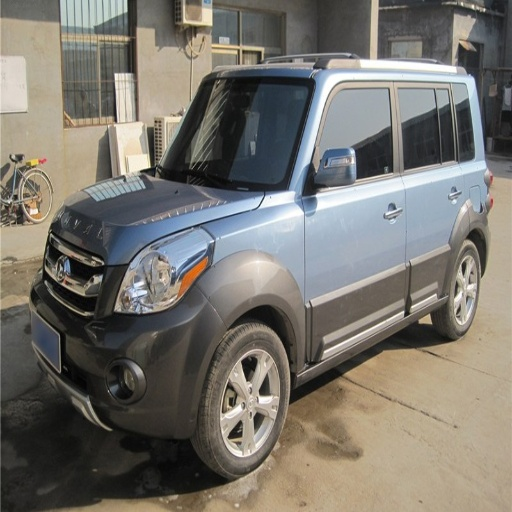front_bumper: (31, 234, 221, 437)
front_glass: (146, 78, 318, 191)
front_left_door: (303, 81, 407, 363)
